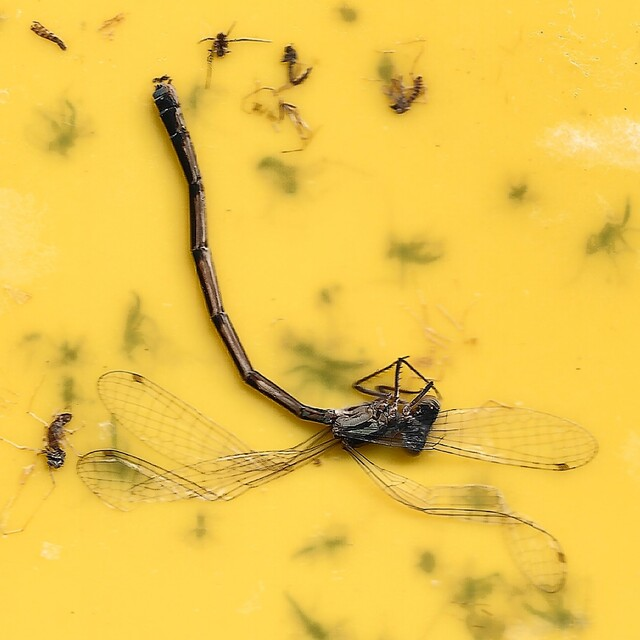Nematocera: (39, 407, 74, 470), (386, 73, 428, 117), (282, 42, 316, 88)
Odonata: (72, 80, 601, 598)
